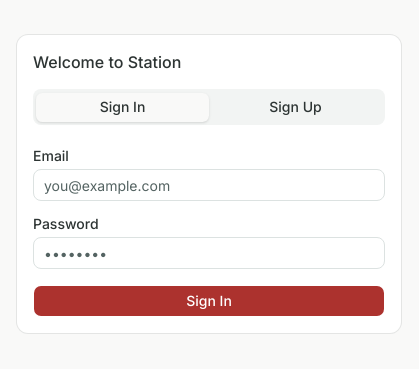
AuthPage › Sign In form › shows error when email format is invalid
The image size is (419, 369).
In the field labelled "Email": (209, 185) [33,169,385,201], type "notanemail"
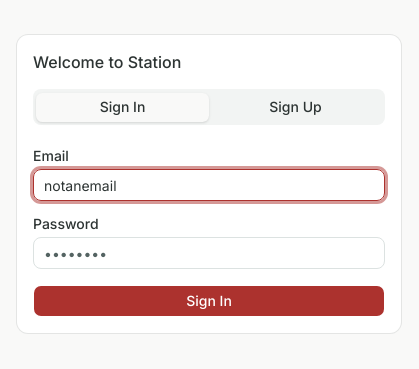
Click the button "Sign In": (209, 301) [33,285,385,317]
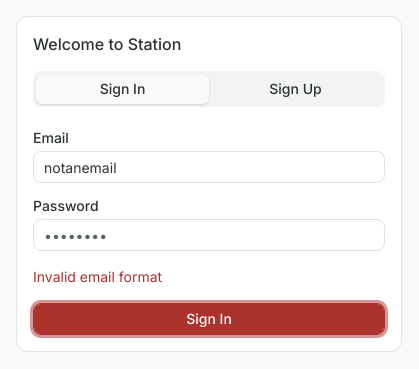
Now the message reads "Invalid email format", box [33,268,162,285]
